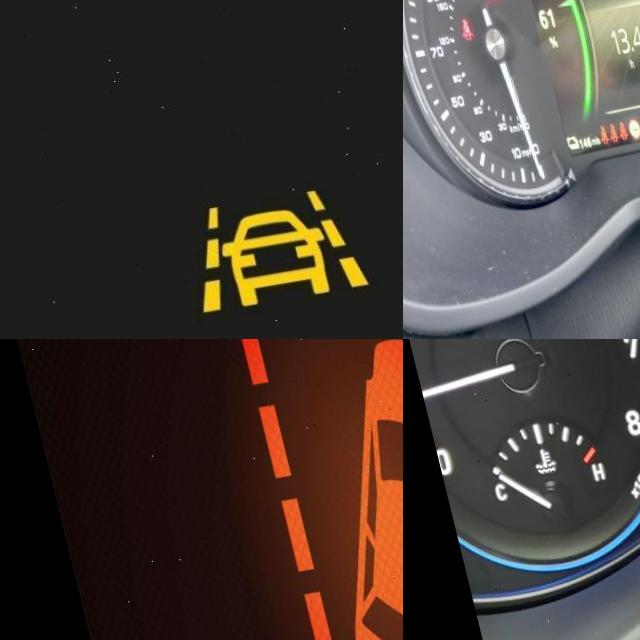Seat Belt: (440, 19, 461, 47), (577, 134, 590, 155), (587, 132, 599, 151), (598, 132, 607, 149)
